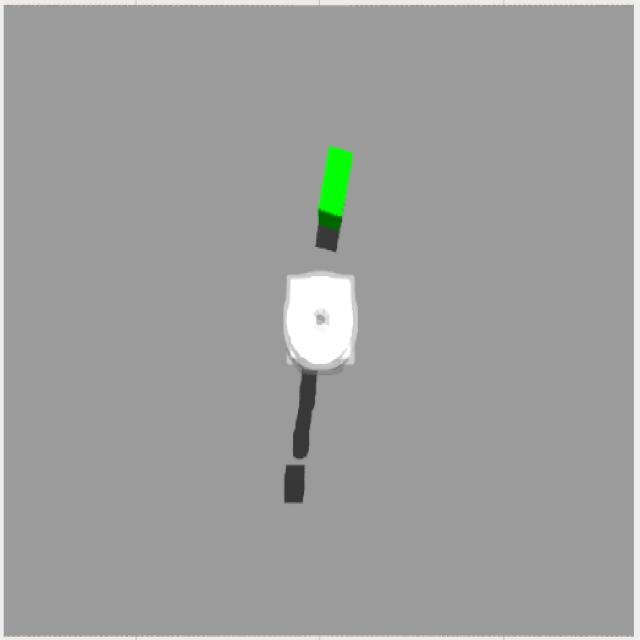box: (316, 148, 352, 250)
